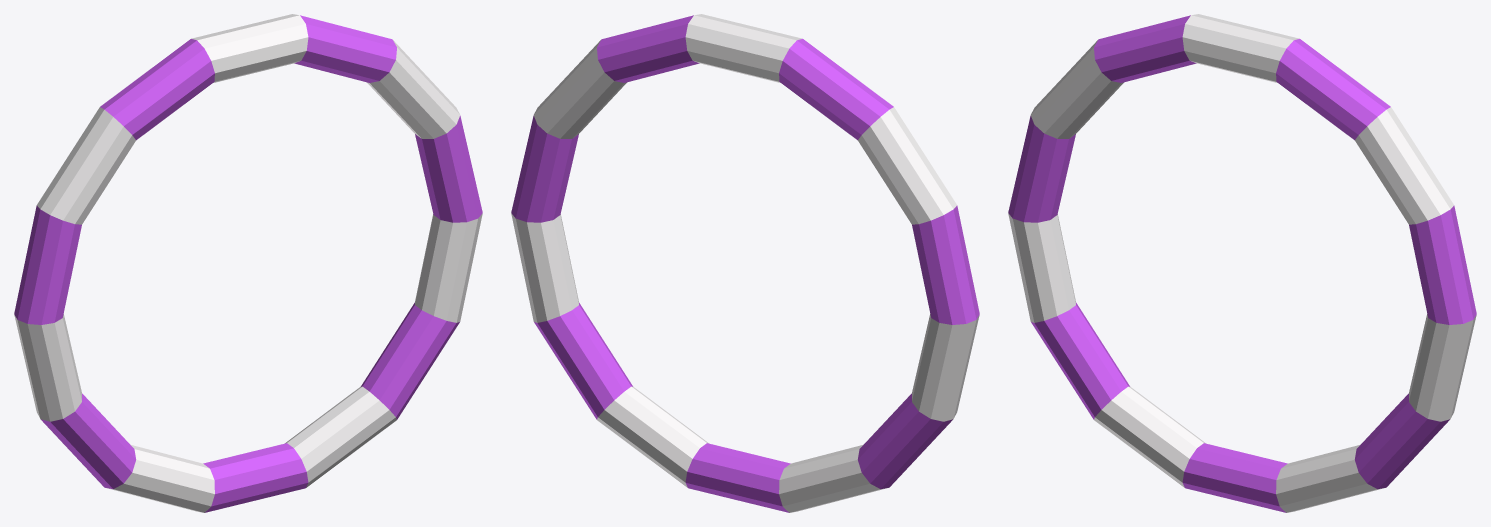
File: Çember6.fbx
The picture shows the model from 3 angles, left to right: view 1: azimuth 30°, elevation 25°; view 2: azimuth 150°, elevation 25°; view 3: azimuth 330°, elevation 25°; orthographic projection.
Visible parts, largest first — view 1: Torus.004; view 2: Torus.004; view 3: Torus.004.
Boxes of the visible parts, left/top/right/bottom form: Torus.004: left=14, top=14, right=482, bottom=512; Torus.004: left=511, top=14, right=979, bottom=512; Torus.004: left=1008, top=14, right=1476, bottom=512.
Bounding box in the file's own units: 448 × 437 × 41.57.
